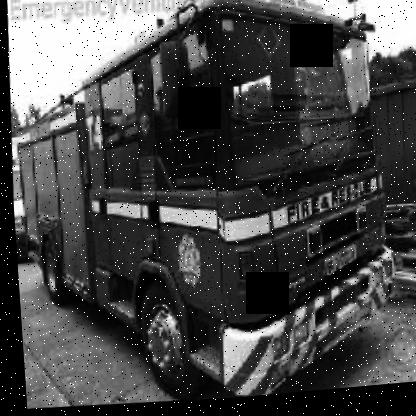emergency: (9, 0, 415, 405)
